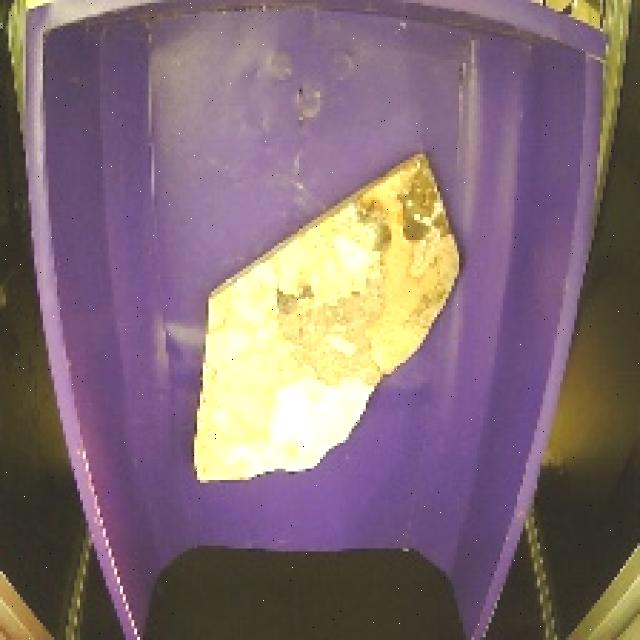china: (182, 140, 485, 496)
